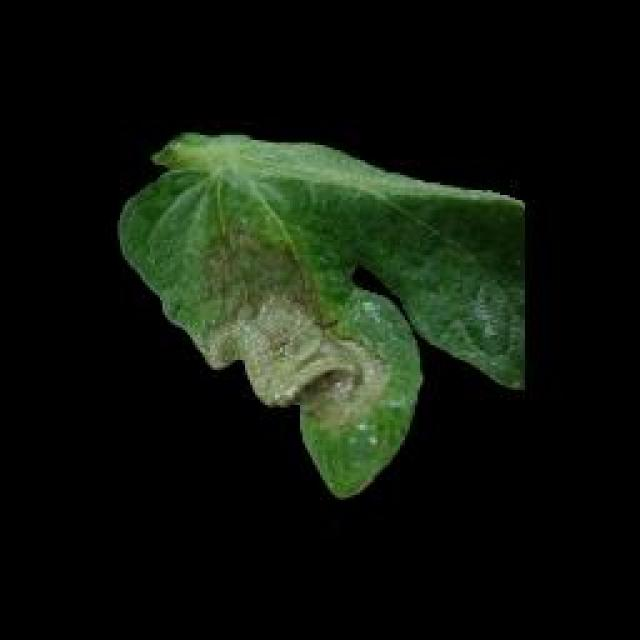Tomato Late Blight: (145, 150, 433, 493)
